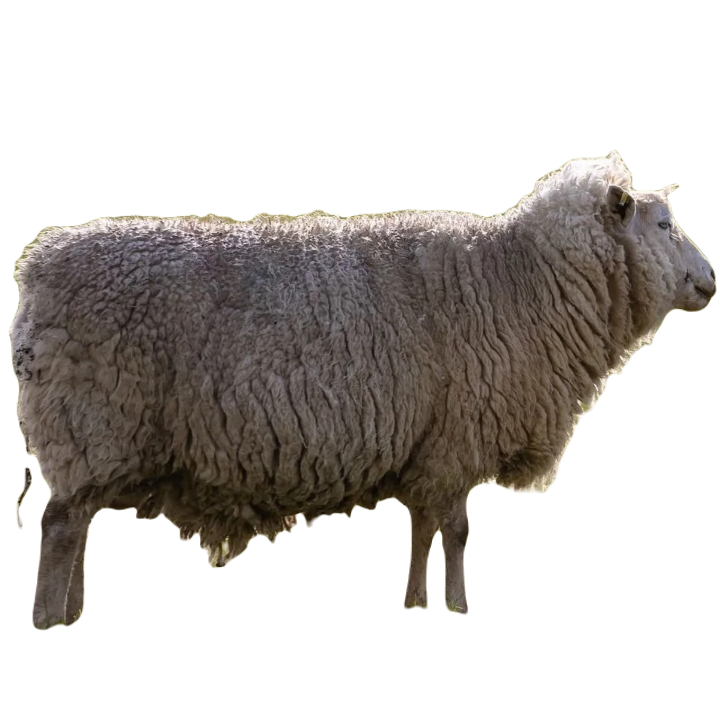Sheep: (8, 146, 719, 636)
